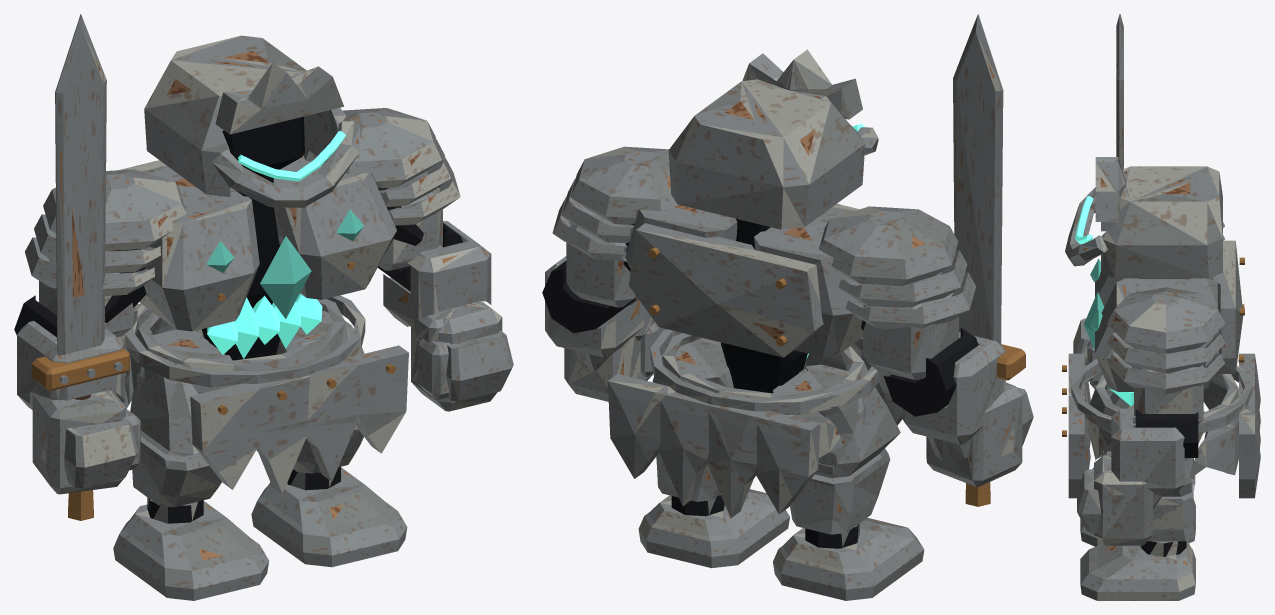
Rendered from host_46.glb.
The picture shows the model from 3 angles, left to right: view 1: azimuth 30°, elevation 25°; view 2: azimuth 150°, elevation 25°; view 3: azimuth 270°, elevation 25°; orthographic projection. The views are drawn at different scales.
Visible parts, largest first — view 1: Revenant — real open scalloped lower plate skirt, Revenant — actual hollow open helmet, Revenant sword — actual straight thick broad blade, Revenant — actual sloped broad chest leaf 1, Revenant — planted source metal boot 1, Revenant — planted source metal boot -1, Revenant — actual sloped broad chest leaf -1, Revenant hand — source RIGHT compact metal fist source compa, Revenant hand — source LEFT compact closed gauntlet connecte, Revenant — source forearm armor -1, Revenant — source sloped broad shoulder 1 0, Revenant — source sloped knee and shin 1 0.3 (+24 smaller); view 2: Revenant — real open scalloped lower plate skirt, Revenant — actual hollow open helmet, Revenant — source solid rear cuirass, Revenant sword — actual straight thick broad blade, Revenant — planted source metal boot 1, Revenant — source sloped broad shoulder 1 0, Revenant — planted source metal boot -1, Revenant — source sloped broad shoulder -1 0, Revenant — actual sloped broad chest leaf 1, Revenant hand — source RIGHT compact metal fist source compa, Revenant — source sloped knee and shin 1 0.3, Revenant — source forearm armor 1 (+16 smaller); view 3: Revenant — actual hollow open helmet, Revenant — real open scalloped lower plate skirt, Revenant — planted source metal boot -1, Revenant — source sloped broad shoulder -1 0, Revenant hand — source LEFT compact closed gauntlet connecte, Revenant — source forearm armor -1, Revenant — actual sloped broad chest leaf -1, Revenant — source solid rear cuirass, Revenant — source sloped broad shoulder -1 1, Revenant — source sloped broad shoulder -1 2, Revenant — source sloped knee and shin -1 0.175, Revenant — broad upper arm -1 (+8 smaller).
Boxes of the visible parts, x1,y1,x2,y2 form: Revenant — real open scalloped lower plate skirt: [118, 295, 408, 493]; Revenant — actual hollow open helmet: [144, 35, 359, 207]; Revenant sword — actual straight thick broad blade: [55, 14, 106, 355]; Revenant — actual sloped broad chest leaf 1: [139, 165, 259, 331]; Revenant — planted source metal boot 1: [113, 497, 268, 600]; Revenant — planted source metal boot -1: [251, 467, 407, 567]; Revenant — actual sloped broad chest leaf -1: [273, 155, 396, 299]; Revenant hand — source RIGHT compact metal fist source compa: [32, 390, 140, 494]; Revenant hand — source LEFT compact closed gauntlet connecte: [411, 301, 513, 411]; Revenant — source forearm armor -1: [383, 220, 491, 326]; Revenant — source sloped broad shoulder 1 0: [43, 169, 186, 251]; Revenant — source sloped knee and shin 1 0.3: [130, 329, 231, 456]; Revenant — real open scalloped lower plate skirt: [607, 329, 902, 517]; Revenant — actual hollow open helmet: [668, 49, 878, 229]; Revenant — source solid rear cuirass: [628, 223, 823, 357]; Revenant sword — actual straight thick broad blade: [953, 14, 1003, 345]; Revenant — planted source metal boot 1: [773, 518, 924, 600]; Revenant — source sloped broad shoulder 1 0: [819, 206, 958, 286]; Revenant — planted source metal boot -1: [638, 489, 789, 568]; Revenant — source sloped broad shoulder -1 0: [570, 146, 679, 224]; Revenant — actual sloped broad chest leaf 1: [754, 203, 864, 356]; Revenant hand — source RIGHT compact metal fist source compa: [926, 382, 1033, 486]; Revenant — source sloped knee and shin 1 0.3: [773, 364, 900, 478]; Revenant — source forearm armor 1: [901, 332, 1005, 444]; Revenant — actual hollow open helmet: [1065, 157, 1222, 278]; Revenant — real open scalloped lower plate skirt: [1068, 353, 1260, 498]; Revenant — planted source metal boot -1: [1080, 540, 1195, 600]; Revenant — source sloped broad shoulder -1 0: [1107, 287, 1225, 353]; Revenant hand — source LEFT compact closed gauntlet connecte: [1077, 451, 1162, 545]; Revenant — source forearm armor -1: [1111, 408, 1184, 495]; Revenant — actual sloped broad chest leaf -1: [1095, 278, 1218, 391]; Revenant — source solid rear cuirass: [1213, 240, 1243, 373]; Revenant — source sloped broad shoulder -1 1: [1107, 332, 1225, 373]; Revenant — source sloped broad shoulder -1 2: [1107, 352, 1224, 394]; Revenant — source sloped knee and shin -1 0.175: [1148, 475, 1195, 541]; Revenant — broad upper arm -1: [1134, 364, 1203, 423].
Size of the model in its own units: 3.97 by 4.95 by 1.91.
10 materials, 7 textured.
